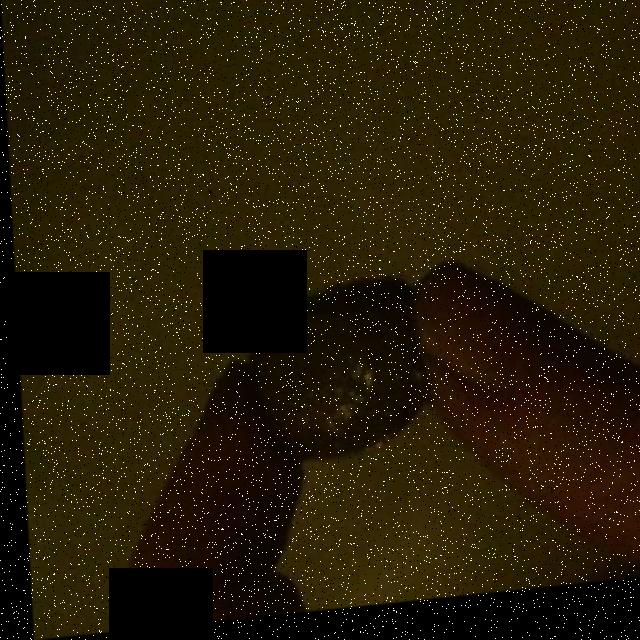onion: (232, 287, 426, 458)
